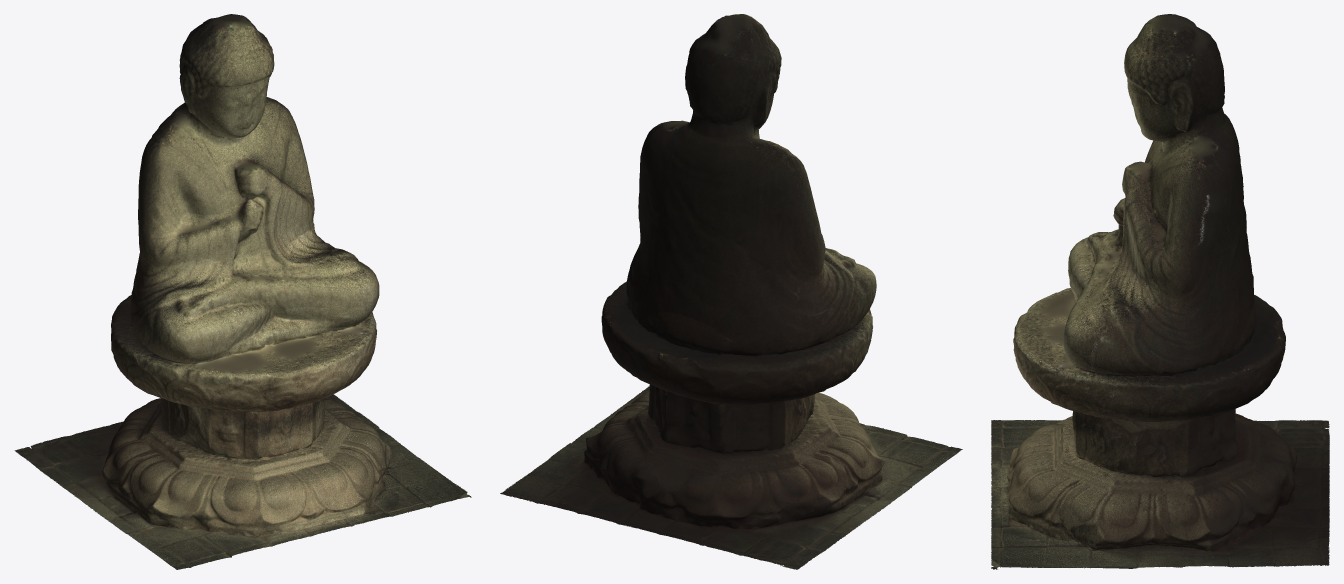
File: 07_홍천 물걸리 석조비로자나불좌상(보물).fbx
The picture shows the model from 3 angles, left to right: view 1: azimuth 30°, elevation 25°; view 2: azimuth 150°, elevation 25°; view 3: azimuth 270°, elevation 25°; orthographic projection. The views are drawn at different scales.
Parts seen in each view (by area): view 1: Model; view 2: Model; view 3: Model.
Part boxes in pixels (x1=…): Model: x1=14, y1=14, x2=471, y2=569; Model: x1=500, y1=14, x2=962, y2=569; Model: x1=991, y1=14, x2=1329, y2=569.
Bounding box in the file's own units: 1774 × 2624 × 1702.
Materials: 1 (1 with a texture image).
